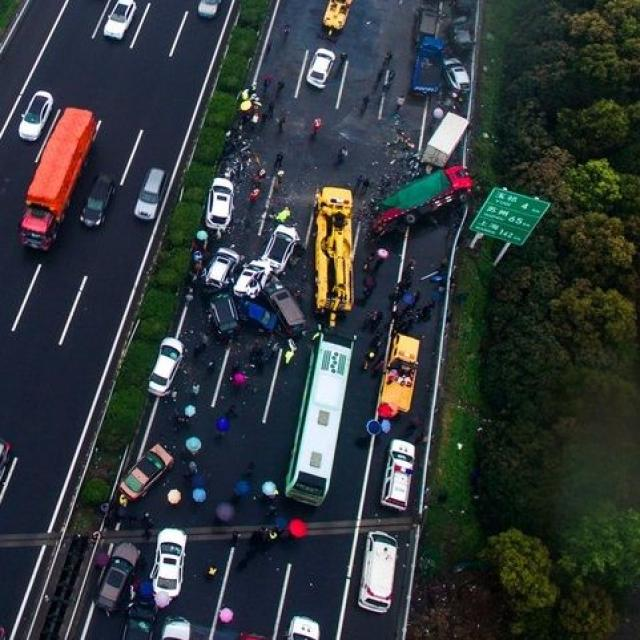traffic_incident: (166, 147, 310, 348)
